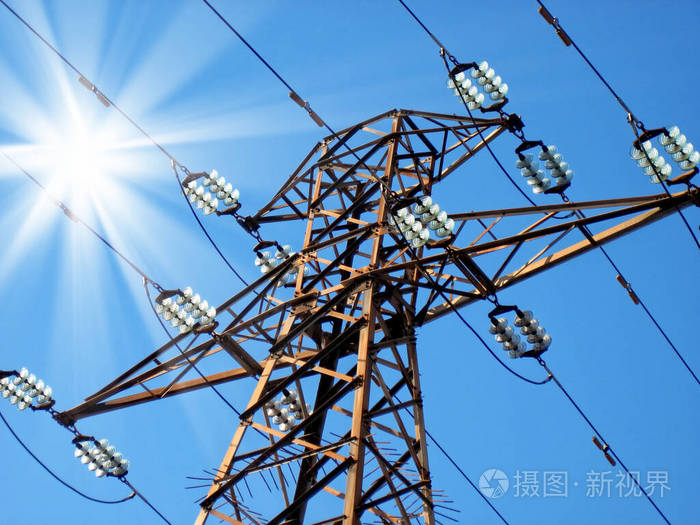insulator: (71, 439, 111, 479), (662, 126, 700, 168), (633, 142, 670, 184), (473, 58, 510, 100), (515, 310, 552, 352), (516, 152, 552, 195), (389, 210, 429, 248), (415, 199, 456, 235), (153, 298, 194, 334), (14, 367, 55, 403), (175, 288, 218, 322), (93, 439, 133, 475), (447, 72, 483, 110), (491, 320, 526, 357), (203, 172, 241, 205), (180, 182, 218, 215), (262, 398, 296, 433), (541, 147, 573, 184), (254, 253, 289, 286), (1, 381, 31, 411), (281, 390, 311, 419), (278, 247, 306, 275)
